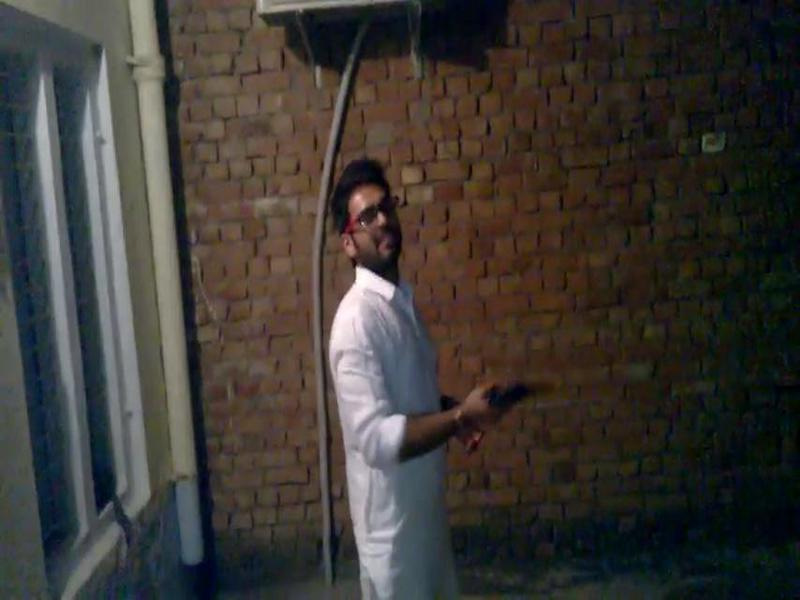Revolver: (467, 369, 567, 443)
